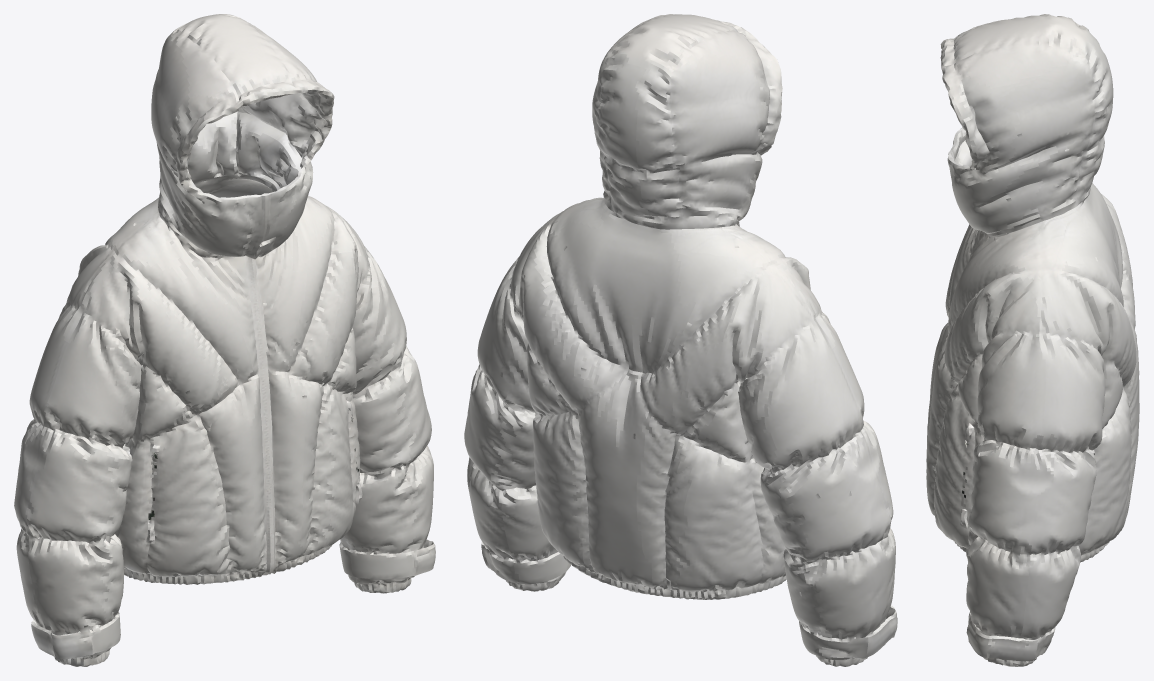
The model's file is jacket_model_meshy.glb.
3 renders of one model, left to right at view 1: azimuth 30°, elevation 25°; view 2: azimuth 150°, elevation 25°; view 3: azimuth 270°, elevation 25°, orthographic. The views are drawn at different scales.
Visible parts, largest first — view 1: Mesh_0; view 2: Mesh_0; view 3: Mesh_0.
Boxes of the visible parts, left/top/right/bottom form: Mesh_0: left=14, top=14, right=435, bottom=666; Mesh_0: left=464, top=14, right=897, bottom=666; Mesh_0: left=926, top=14, right=1139, bottom=666.
Size of the model in its own units: 1.37 by 1.9 by 0.6437.
Materials: 1 (1 with a texture image).
